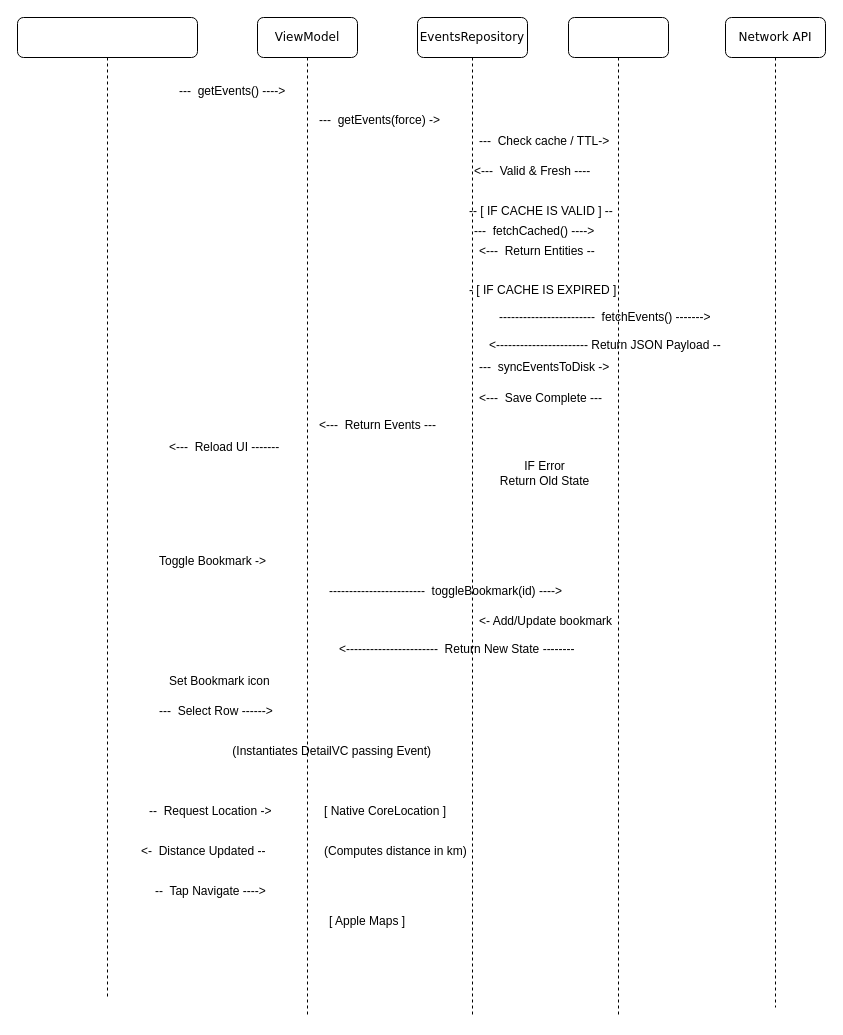
The diagram is 843 pixels wide and 1035 high, and some of its shapes have lost their labels. Here are the shapes that lost their labels. From the top down, the box of each, then its label:
(16, 16, 198, 998): View / VC
(568, 16, 668, 1018): LocalStore
